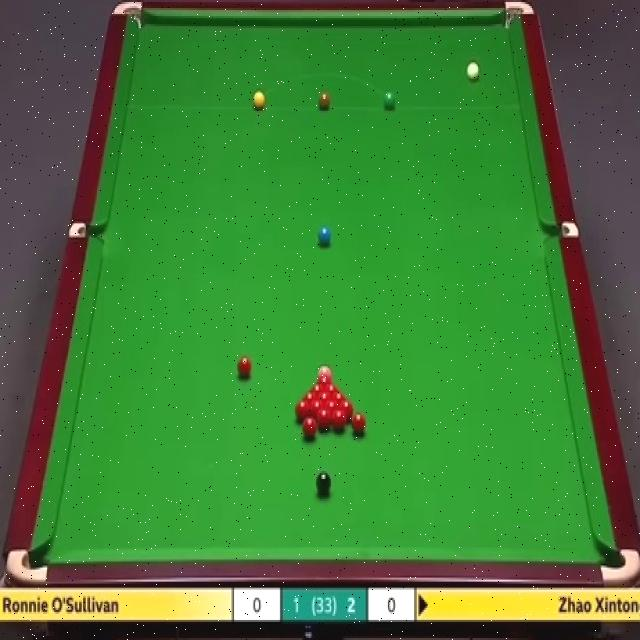black-ball: (316, 470, 331, 496)
blue-ball: (318, 225, 331, 244)
brown-ball: (318, 93, 331, 109)
green-ball: (382, 89, 397, 112)
pink-ball: (317, 365, 333, 382)
red-ball: (295, 398, 312, 423), (332, 407, 347, 434), (351, 412, 366, 436), (238, 355, 252, 380), (323, 400, 341, 419), (302, 415, 318, 436), (317, 407, 332, 429), (338, 399, 354, 418), (331, 390, 347, 404), (324, 380, 338, 396), (318, 390, 332, 405), (302, 390, 318, 403), (312, 402, 322, 421), (311, 382, 325, 395)
white-ball: (467, 60, 480, 82)
yellow-ball: (252, 90, 266, 110)
